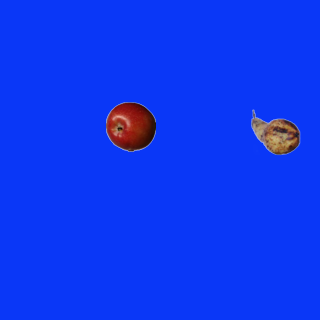Apple Braeburn: (105, 101, 155, 151)
Pear Abate: (250, 107, 300, 157)
